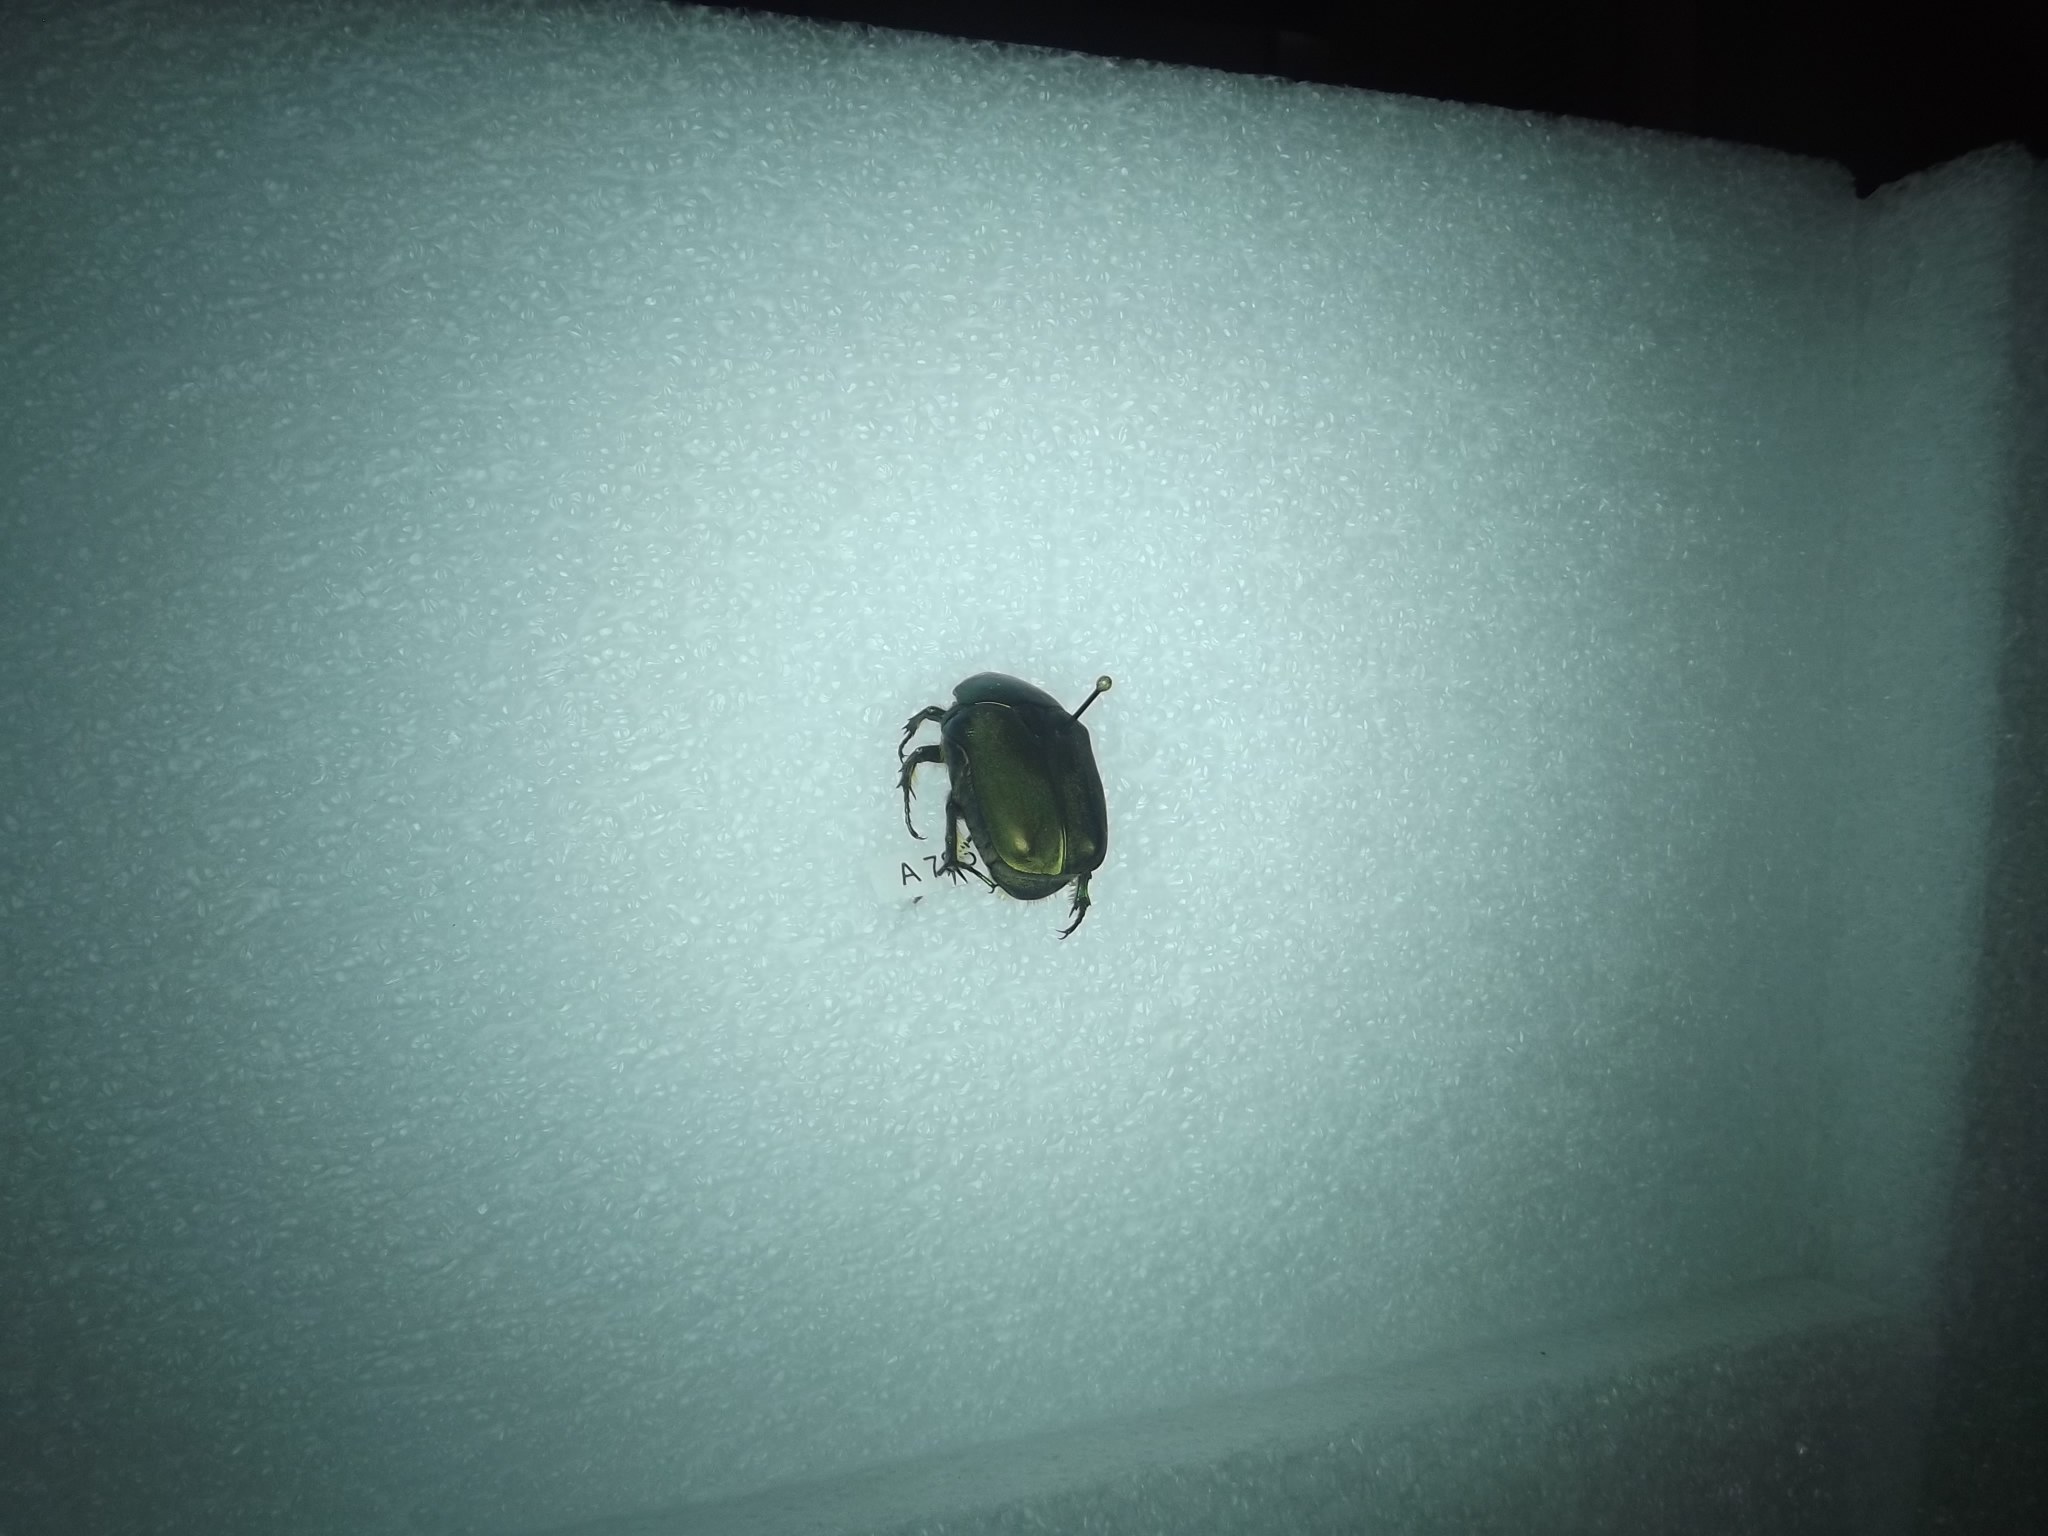Protaetia_ungarica_americana: (890, 629, 1116, 939)
